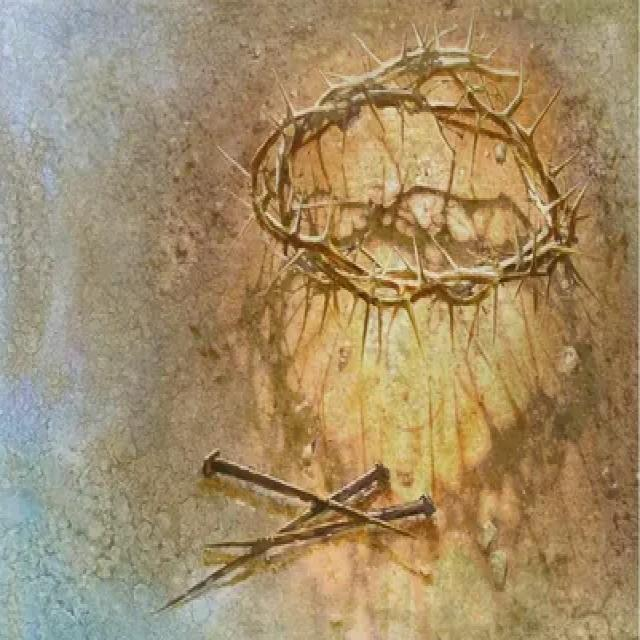crown: (235, 12, 580, 326)
